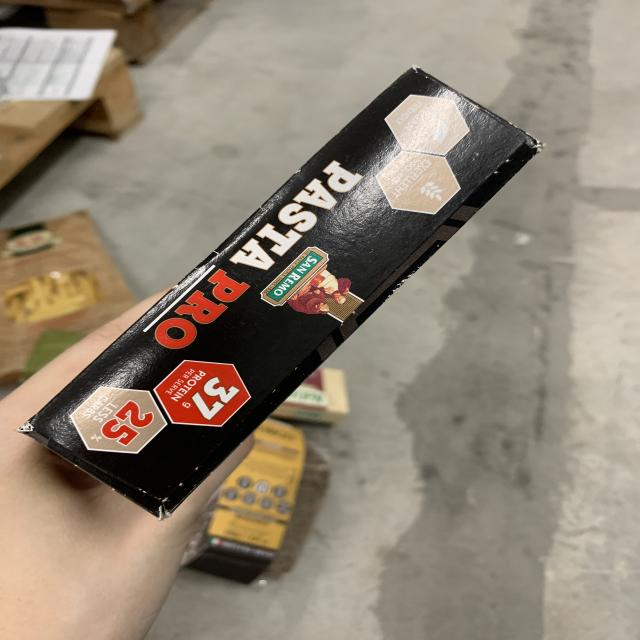object_name: (134, 81, 443, 452)
